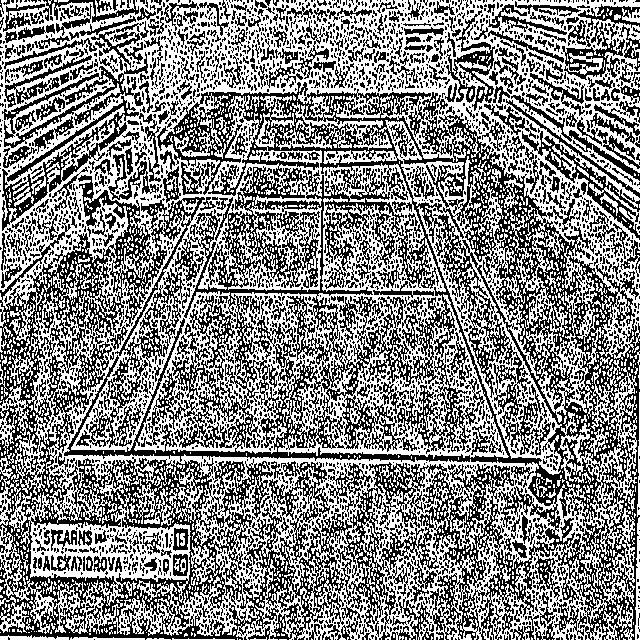left side: (382, 118, 578, 462), (66, 117, 264, 453)
player: (512, 401, 577, 559), (294, 78, 310, 120)
